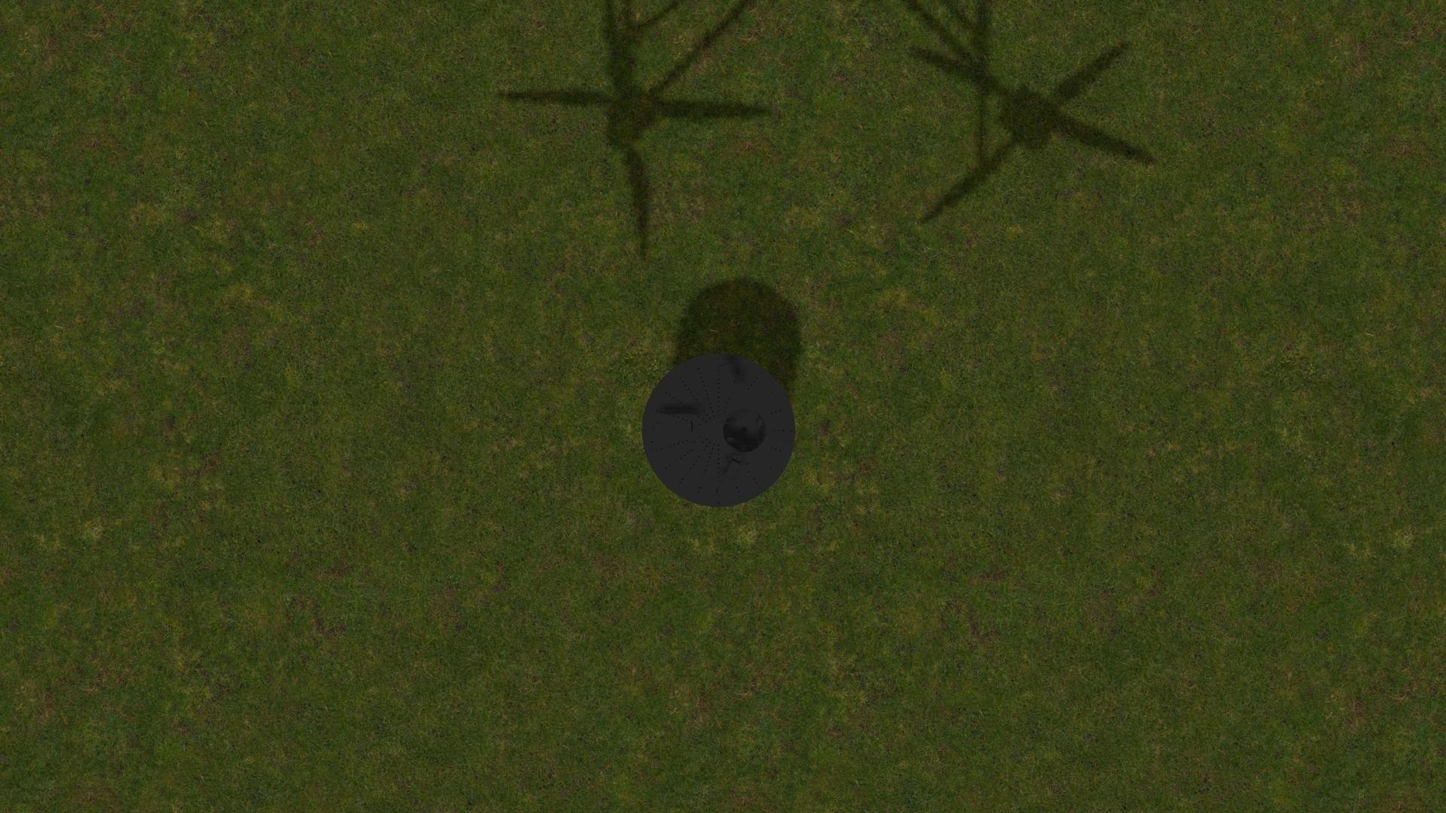alca: (714, 454, 742, 501), (716, 359, 743, 406), (650, 423, 698, 432)
armadilha: (642, 353, 795, 507)
